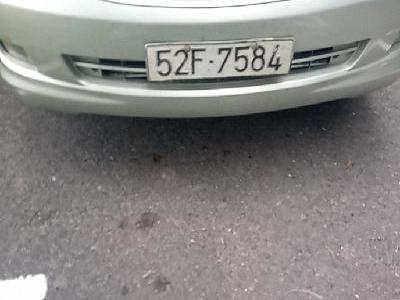number: (146, 40, 295, 81)
